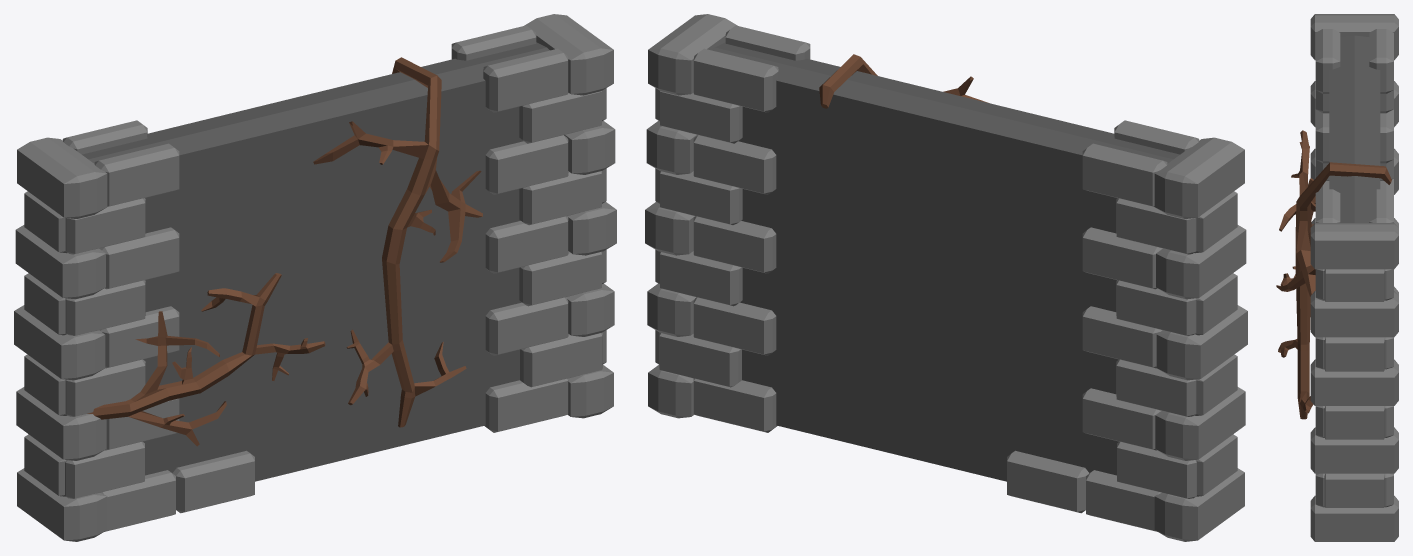
Rendered from DungeonWallOvergrown.fbx.
3 renders of one model, left to right at view 1: azimuth 30°, elevation 25°; view 2: azimuth 150°, elevation 25°; view 3: azimuth 270°, elevation 25°, orthographic. The views are drawn at different scales.
Visible parts, largest first — view 1: DungeonWallOvergrown; view 2: DungeonWallOvergrown; view 3: DungeonWallOvergrown.
Part boxes in pixels (x1,y1,x2,y2): DungeonWallOvergrown: [14, 14, 616, 541]; DungeonWallOvergrown: [645, 14, 1247, 541]; DungeonWallOvergrown: [1276, 14, 1398, 541].
Bounding box in the file's own units: 555 × 354 × 126.
1 material, 1 textured.
